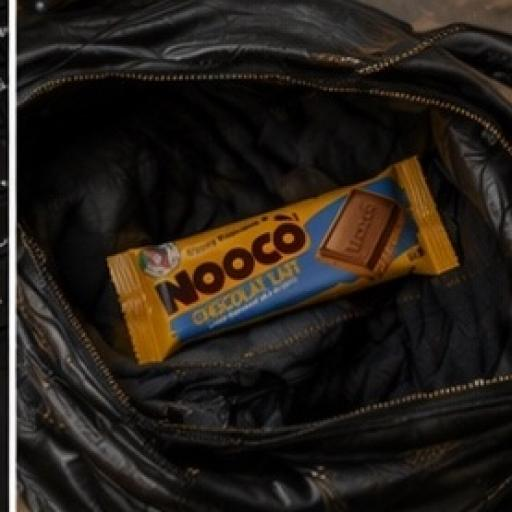nooco: (88, 148, 466, 352)
